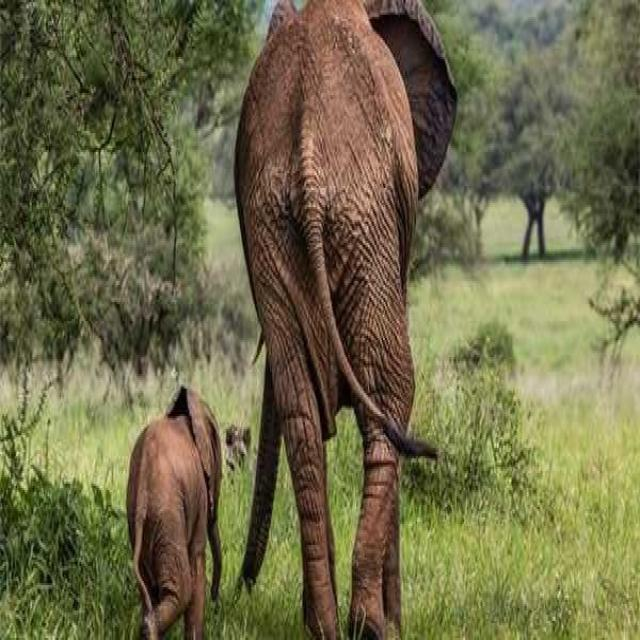Elephant: (232, 0, 458, 638), (125, 382, 223, 638)
